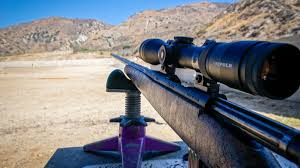Gun: (98, 26, 291, 118)
